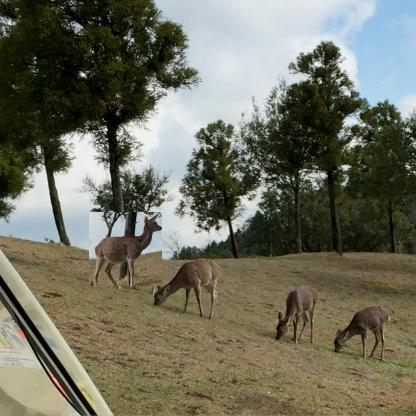Deer: (89, 212, 162, 286), (152, 257, 222, 317), (332, 303, 389, 361), (277, 286, 315, 344)
